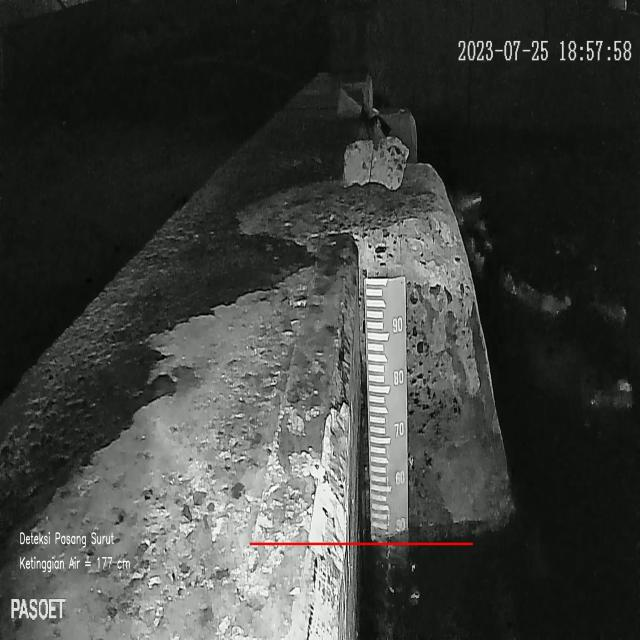60: (394, 468, 406, 487)
70: (394, 419, 405, 438)
80: (392, 368, 404, 385)
90: (392, 316, 404, 334)
staff: (364, 278, 408, 535)
